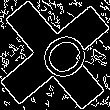O_SW: (21, 22, 89, 88)
